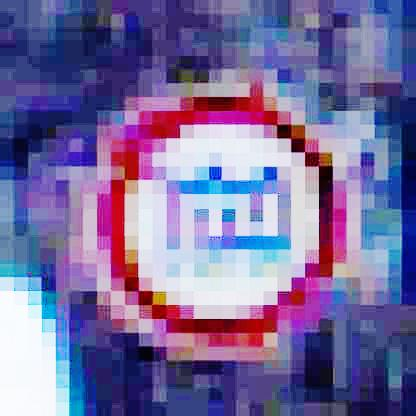Speed Limit -100-: (83, 90, 347, 348)
